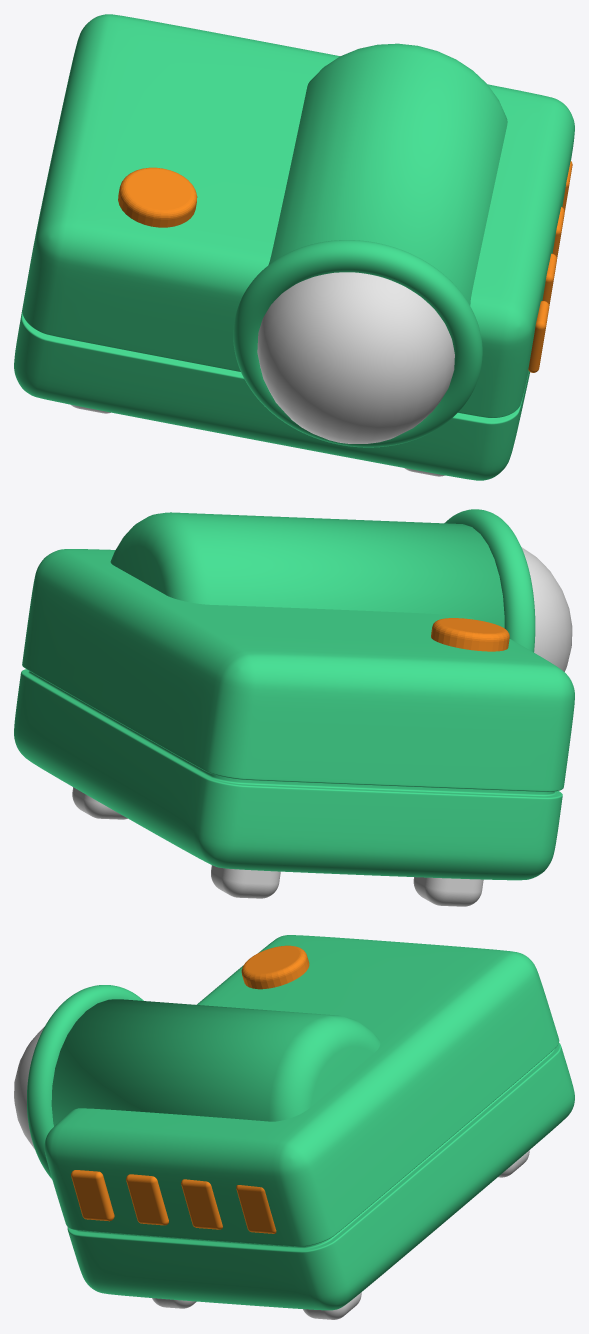
Rendered from projector-3d-icon-1162264874567.glb.
3 views of the same model, one above another, from view 1: azimuth 30°, elevation 25°; view 2: azimuth 150°, elevation 25°; view 3: azimuth 270°, elevation 25° (orthographic). The views are drawn at different scales.
Visible parts, largest first — view 1: Body, Legs & Projector Lens, Button; view 2: Body, Legs & Projector Lens, Button; view 3: Body, Button, Legs & Projector Lens.
Boxes of the visible parts, x1,y1,x2,y2 form: Body: (14, 14, 574, 480); Legs & Projector Lens: (71, 272, 454, 476); Button: (118, 161, 572, 372); Body: (14, 509, 574, 880); Legs & Projector Lens: (72, 547, 572, 906); Button: (431, 618, 509, 651); Body: (27, 935, 574, 1310); Button: (71, 945, 309, 1233); Legs & Projector Lens: (14, 1026, 529, 1319).
Size of the model in its own units: 3.47 by 2.19 by 3.65.
